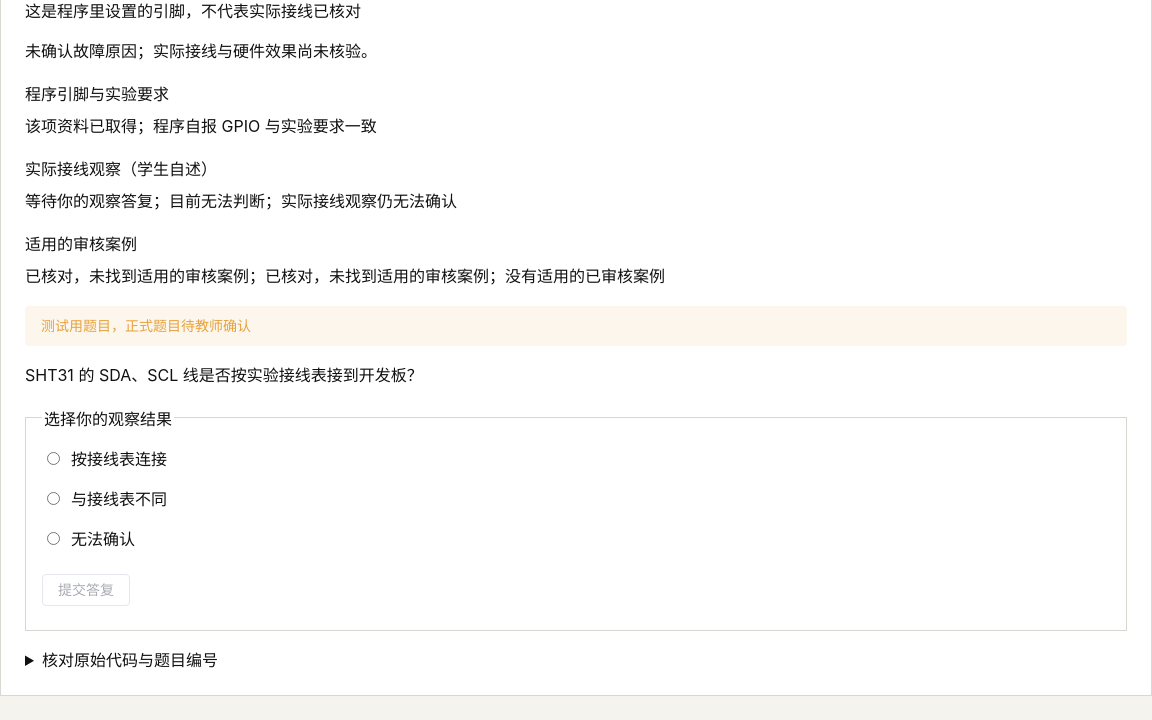
资料核对 › rereads on 409 and never resubmits automatically
The width and height of the screenshot is (1152, 720).
(page scrolled)
Click the radio button labelled "按接线表连接".
click(54, 458)  # box [47,452,60,464]
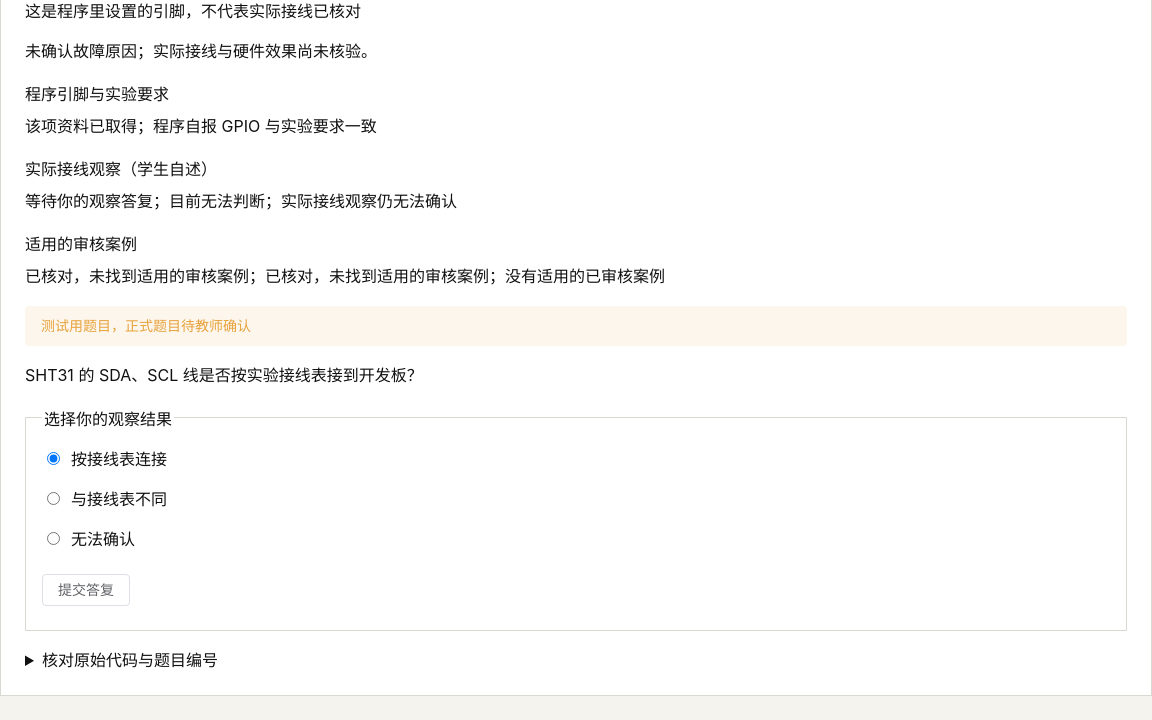
Click the button "提交答复".
click(86, 590)  # box [42,574,130,606]
(page scrolled)
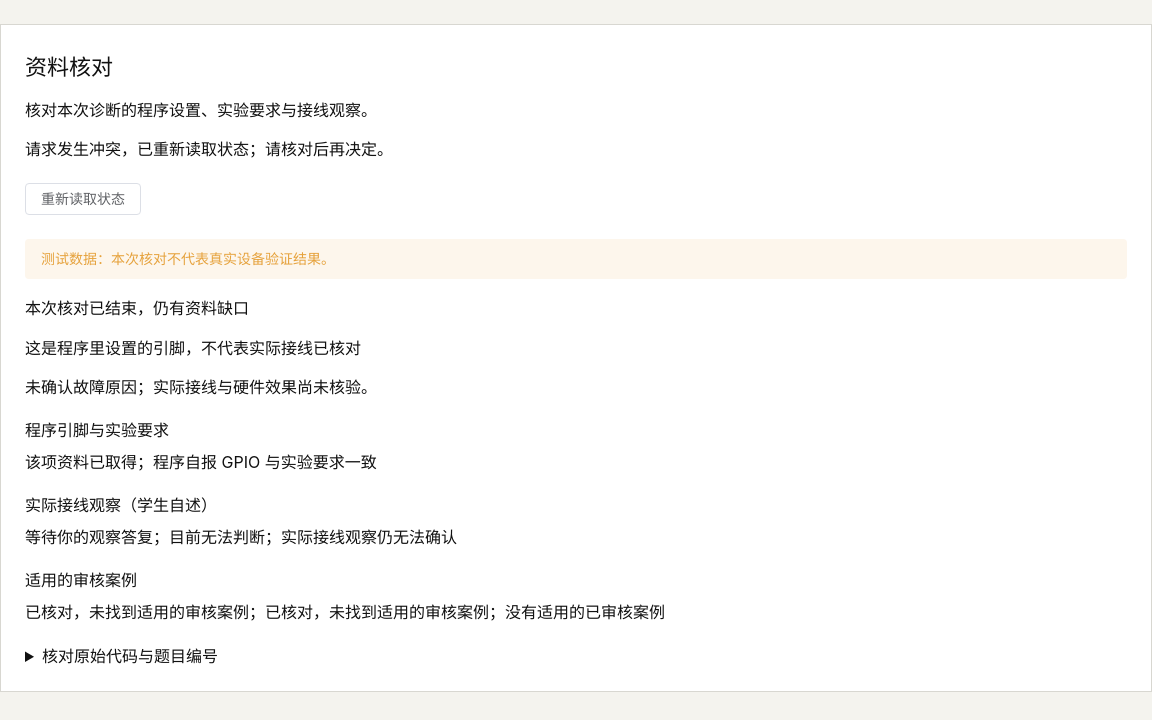
Now the text "请求发生冲突" is shown, box [25,139,393,159]
